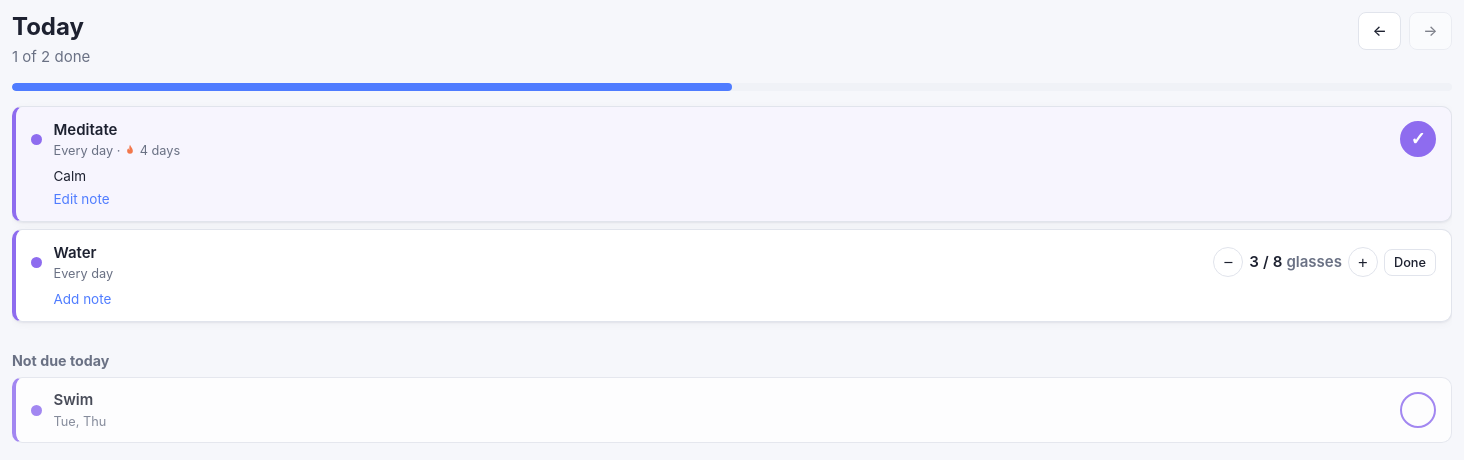
Test: TodayPage › can go back to an earlier day
Step 1. Click the button named "Previous day" → [1380, 31], box [1358,12,1401,50]
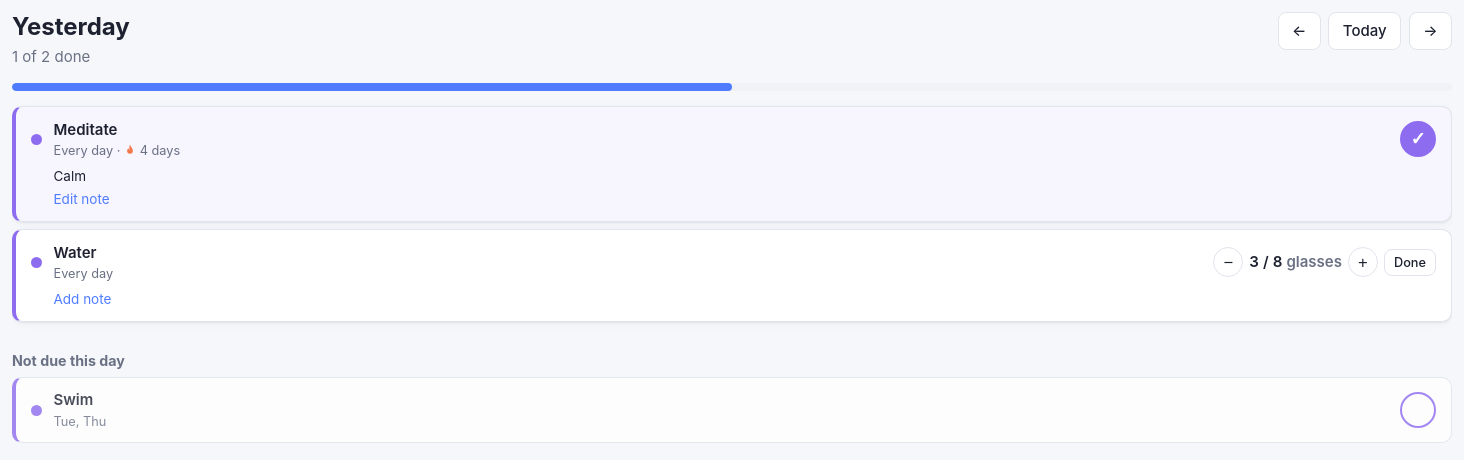
Expected: the button "Today" is shown, [1328,12,1401,50]
Expected: the heading "Yesterday" is shown, [12,12,130,42]
